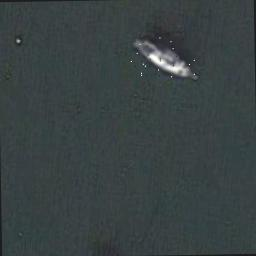boat: (130, 36, 196, 80)
